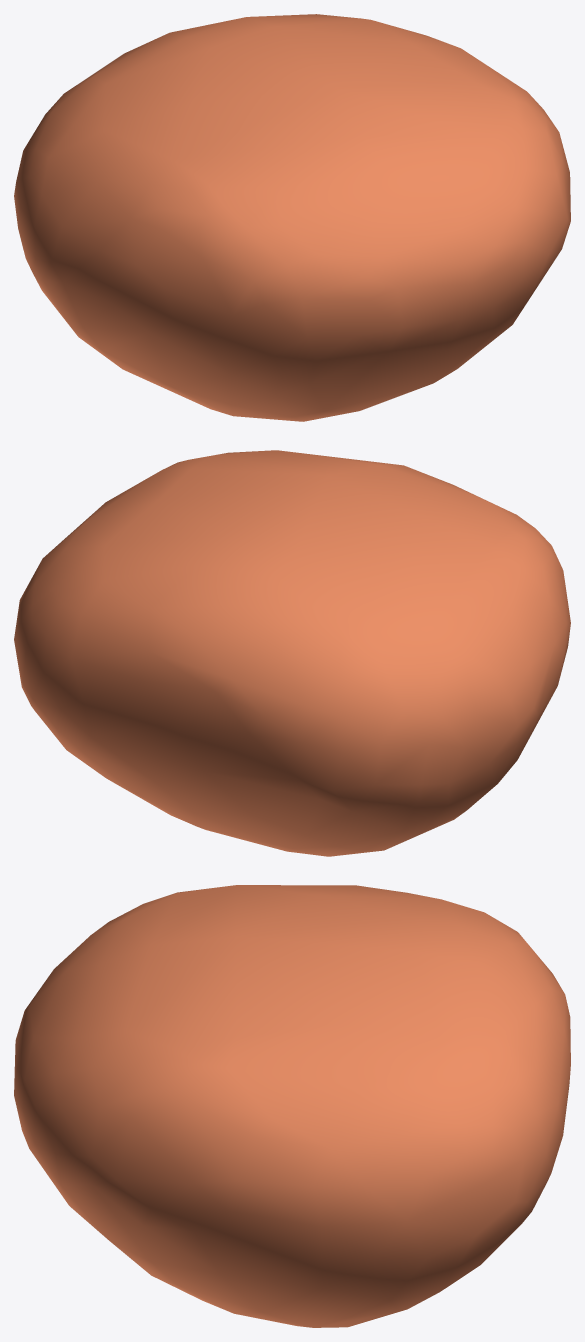
File: Prostate.glb
3 views of the same model, one above another, from view 1: azimuth 30°, elevation 25°; view 2: azimuth 150°, elevation 25°; view 3: azimuth 270°, elevation 25° (orthographic). The views are drawn at different scales.
Parts seen in each view (by area): view 1: Prostate_Generated_Mesh_From_X3D.904; view 2: Prostate_Generated_Mesh_From_X3D.904; view 3: Prostate_Generated_Mesh_From_X3D.904.
Boxes of the visible parts, bbox=[...] form: Prostate_Generated_Mesh_From_X3D.904: bbox=[14, 14, 570, 421]; Prostate_Generated_Mesh_From_X3D.904: bbox=[14, 450, 570, 856]; Prostate_Generated_Mesh_From_X3D.904: bbox=[14, 885, 570, 1327].
Bounding box in the file's own units: 0.0357 × 0.0234 × 0.0328.
